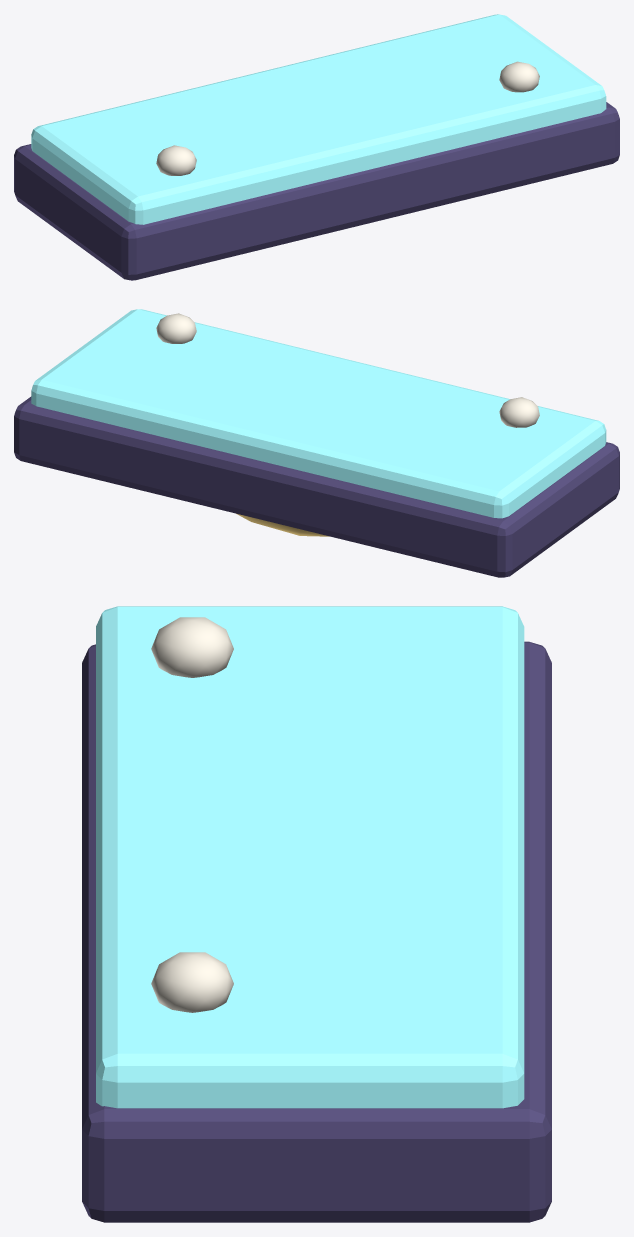
Rendered from pearl_music_bar_4.glb.
3 renders of one model, top to bottom at view 1: azimuth 30°, elevation 25°; view 2: azimuth 150°, elevation 25°; view 3: azimuth 270°, elevation 25°, orthographic. The views are drawn at different scales.
Visible parts, largest first — view 1: pearl_music_bar_4.001; view 2: pearl_music_bar_4.001; view 3: pearl_music_bar_4.001.
Boxes of the visible parts, <box> form: pearl_music_bar_4.001: <box>14,14,619,280</box>; pearl_music_bar_4.001: <box>14,309,619,577</box>; pearl_music_bar_4.001: <box>82,606,551,1222</box>.
Bounding box in the file's own units: 6.65 × 1.7 × 2.72.
